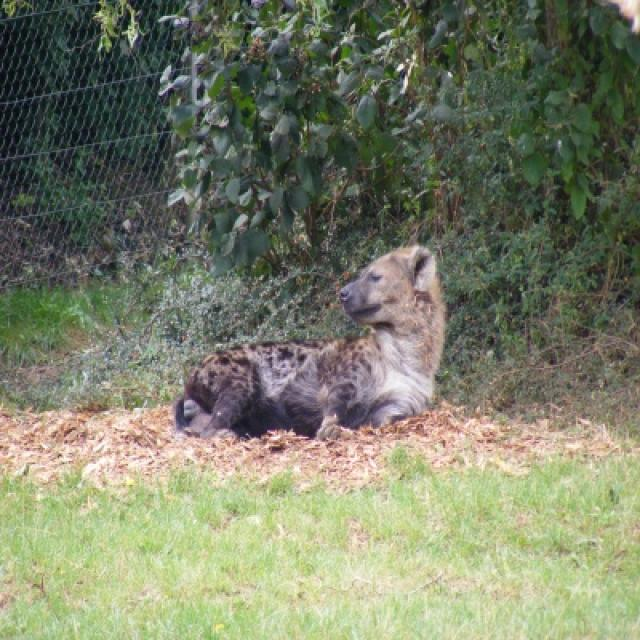hyena: (174, 246, 448, 442)
